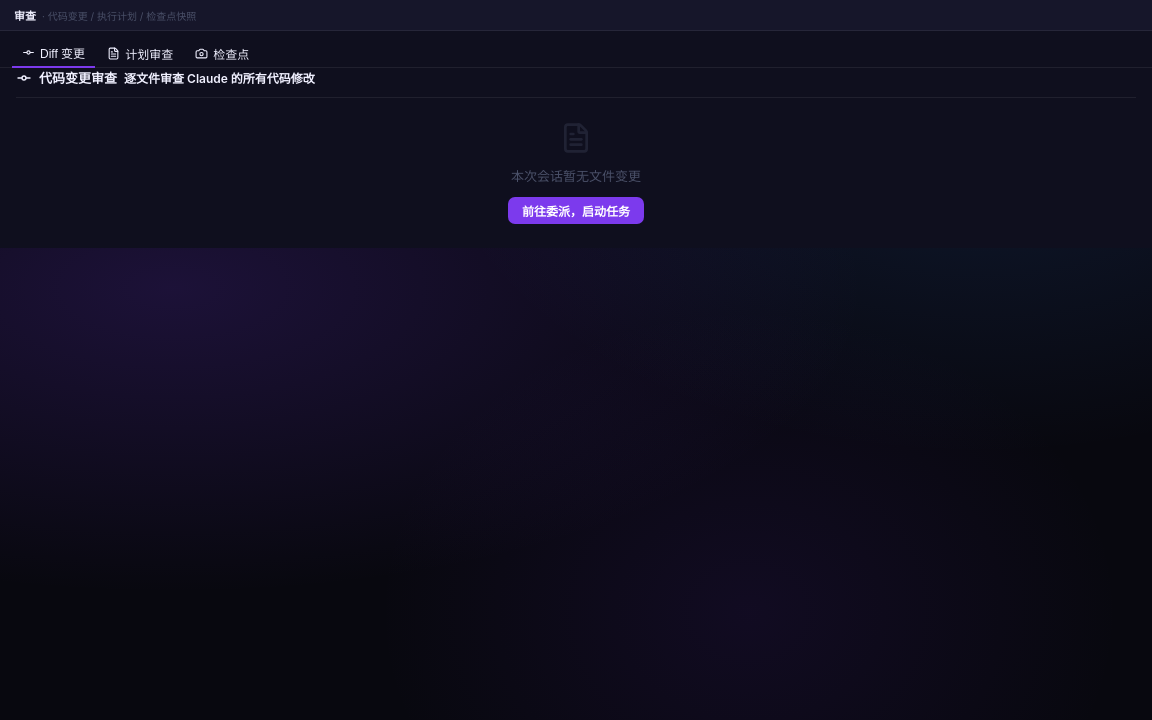
Test: ReviewView - 计划审查 tab 空状态 › messages 为空时"计划审查"tab 内应显示"本次会话暂无执行计划"
切换到"计划审查"tab（默认是"Diff 变更"）
Click the button "计划审查": coordinates (140, 53) [97, 40, 183, 66]
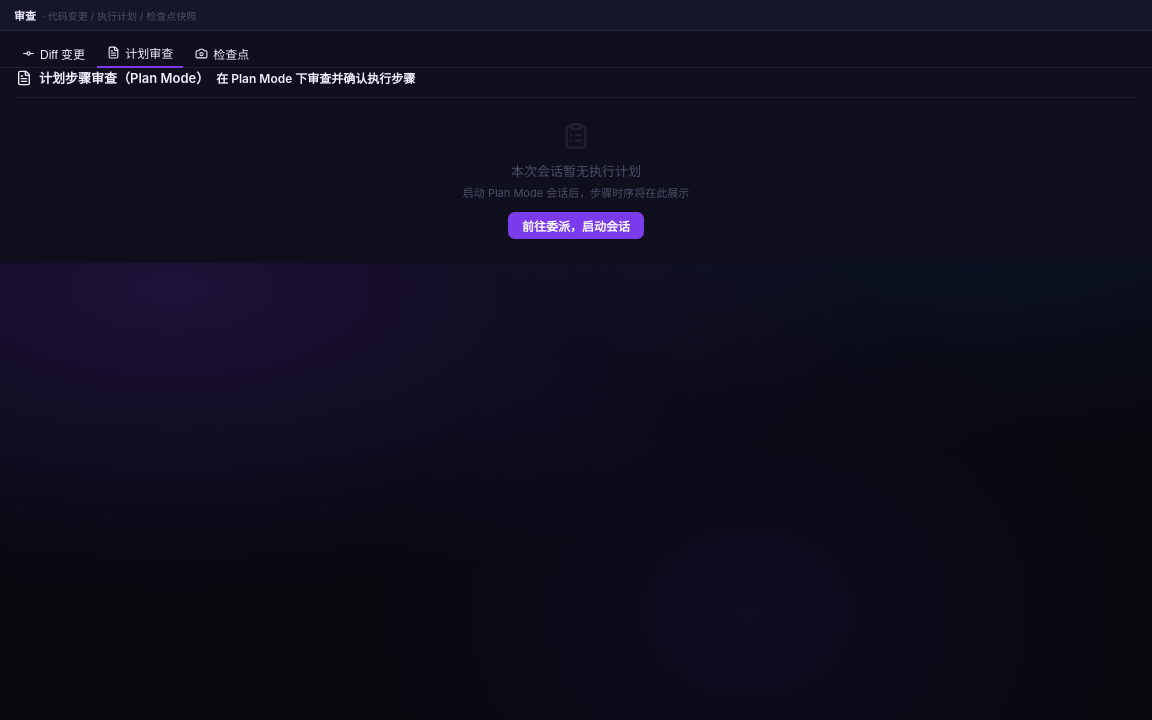
Expected: the text "本次会话暂无执行计划" is shown, [511, 163, 641, 179]
